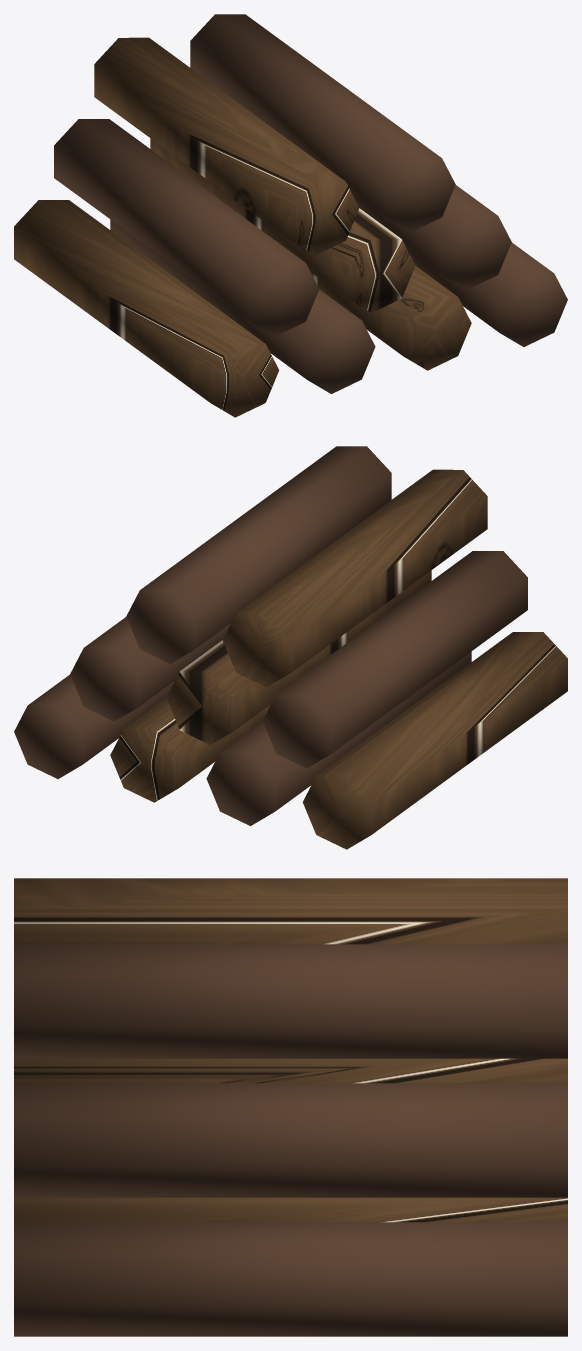
File: firewood.glb
The picture shows the model from 3 angles, top to bottom: view 1: azimuth 30°, elevation 25°; view 2: azimuth 150°, elevation 25°; view 3: azimuth 270°, elevation 25°; orthographic projection. The views are drawn at different scales.
Parts seen in each view (by area): view 1: geometry_1, geometry_0; view 2: geometry_1, geometry_0; view 3: geometry_1, geometry_0.
Part boxes in pixels (x1,y1,x2,y2): geometry_1: (54, 14, 567, 393); geometry_0: (14, 37, 471, 417); geometry_1: (14, 446, 527, 825); geometry_0: (110, 469, 567, 849); geometry_1: (14, 944, 567, 1336); geometry_0: (14, 878, 567, 1222).
Size of the model in its own units: 0.8911 by 0.5155 by 0.85.
Materials: 2 (1 with a texture image).
